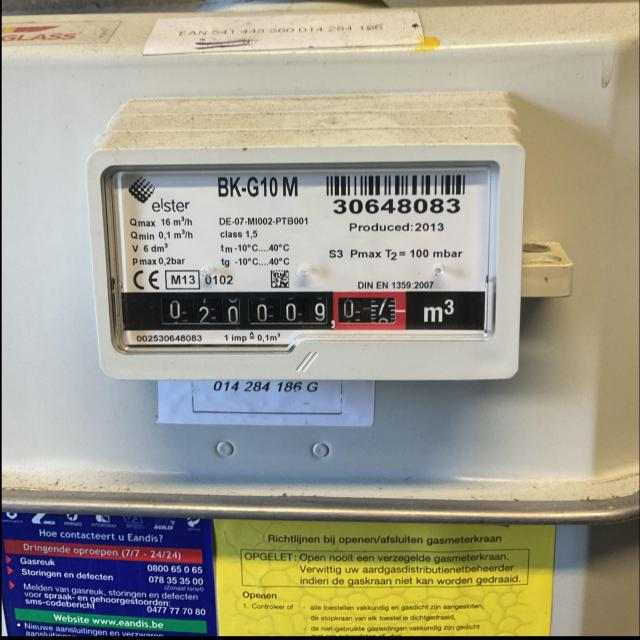gaz_meter: (100, 166, 490, 338)
indication: (148, 292, 409, 329)
